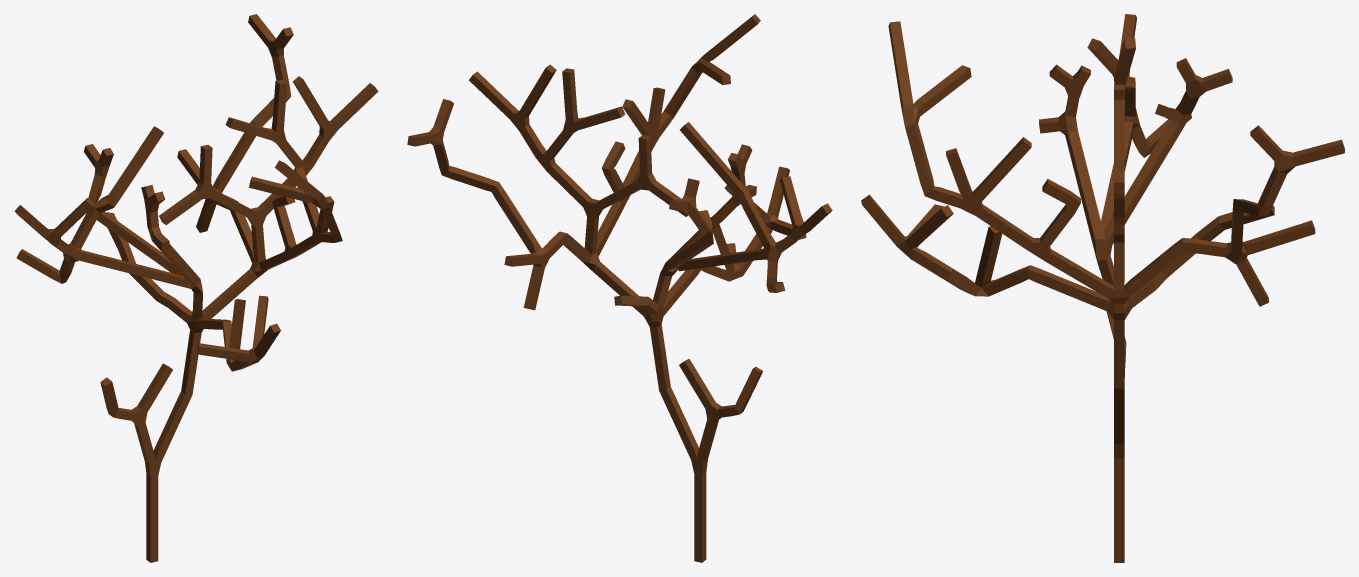
The model's file is kuru-agac.fbx.
3 renders of one model, left to right at view 1: azimuth 30°, elevation 25°; view 2: azimuth 150°, elevation 25°; view 3: azimuth 270°, elevation 25°, orthographic. The views are drawn at different scales.
Parts seen in each view (by area): view 1: Cube; view 2: Cube; view 3: Cube.
Part boxes in pixels (left/top/right/bottom): Cube: left=14, top=14, right=378, bottom=562; Cube: left=407, top=14, right=832, bottom=562; Cube: left=861, top=14, right=1344, bottom=562.
Bounding box in the file's own units: 274 × 335 × 261.
